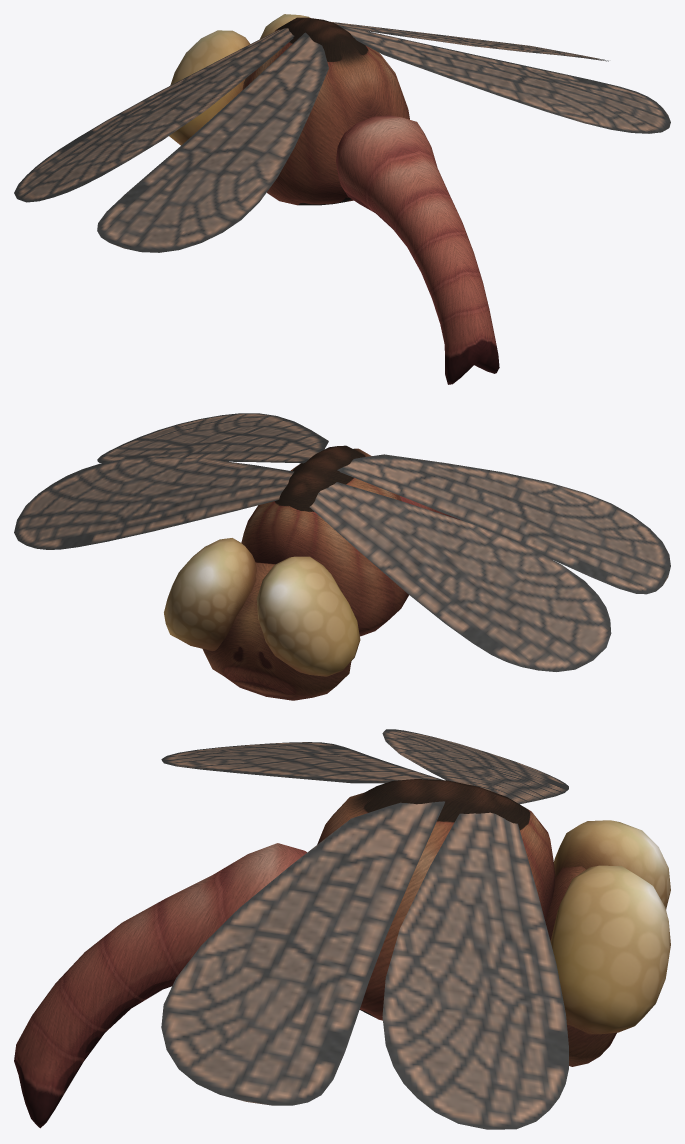
File: CRT0110035.fbx
3 views of the same model, one above another, from view 1: azimuth 30°, elevation 25°; view 2: azimuth 150°, elevation 25°; view 3: azimuth 270°, elevation 25° (orthographic). The views are drawn at different scales.
Parts seen in each view (by area): view 1: smCRT0110035; view 2: smCRT0110035; view 3: smCRT0110035.
Part boxes in pixels (x1,y1,x2,y2): smCRT0110035: (14, 14, 670, 384); smCRT0110035: (14, 413, 670, 700); smCRT0110035: (14, 729, 670, 1129).
Bounding box in the file's own units: 18.8 × 7.67 × 13.74.
Materials: 1 (1 with a texture image).
